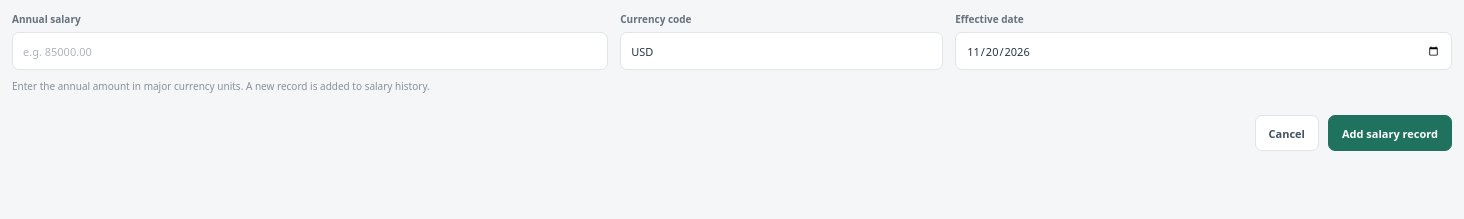
Scenario: employee and salary forms › converts a valid amount to minor units and shows API errors
Step 1. Type "120.34" into the field labelled "Annual salary" → (310, 51), box [12,32,608,70]
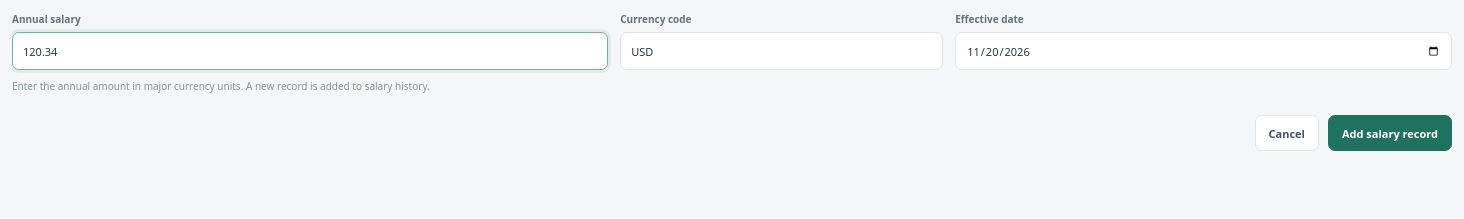
Step 2. Type "2025-01-01" into the date field labelled "Effective date" → (1204, 51), box [955,32,1452,70]
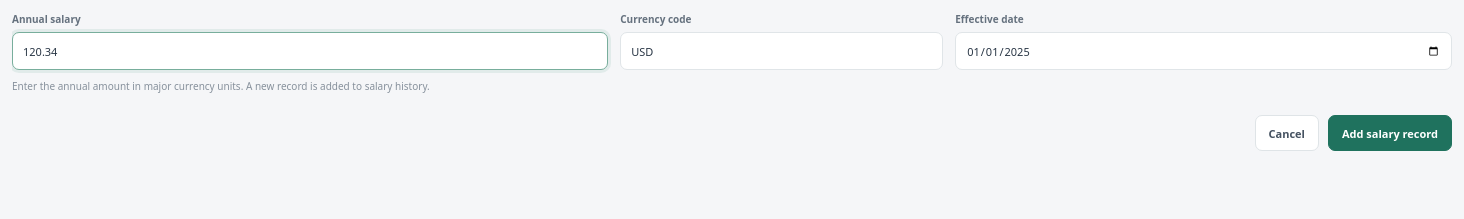
Step 3. Click the button "Add salary record" → (1390, 133), box [1328,115,1452,151]
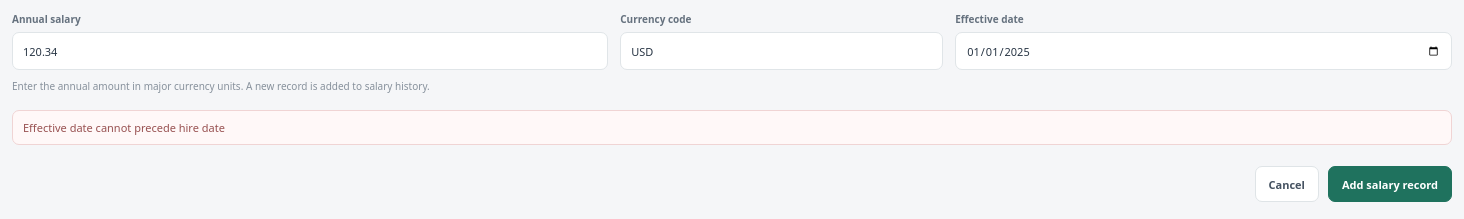
expect the text "Effective date cannot precede hire date" is shown: met, box [12,110,1452,145]
